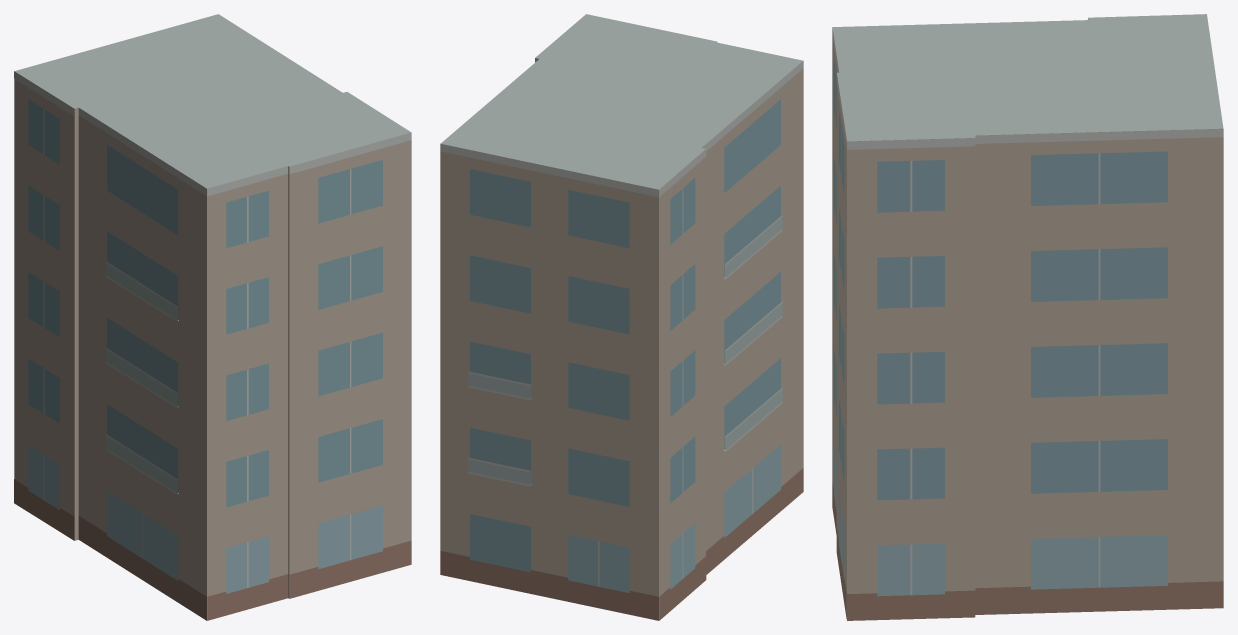
Rendered from survey-upis-32709026.glb.
3 renders of one model, left to right at view 1: azimuth 30°, elevation 25°; view 2: azimuth 150°, elevation 25°; view 3: azimuth 270°, elevation 25°, orthographic. The views are drawn at different scales.
Visible parts, largest first — view 1: survey-upis-32709026.tmp; view 2: survey-upis-32709026.tmp; view 3: survey-upis-32709026.tmp.
Part boxes in pixels (bbox=[...]): survey-upis-32709026.tmp: bbox=[14, 14, 411, 620]; survey-upis-32709026.tmp: bbox=[440, 14, 803, 620]; survey-upis-32709026.tmp: bbox=[832, 14, 1223, 620].
Size of the model in its own units: 7.87 by 13.8 by 10.21.
